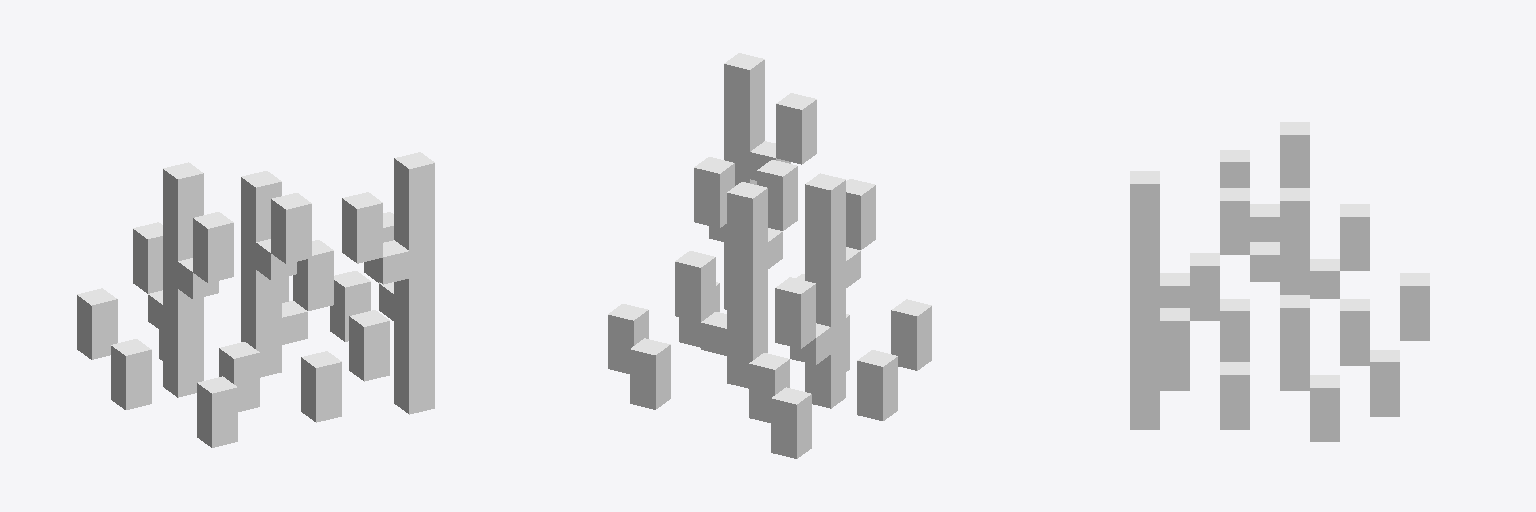
File: grass-forest5.obj
The picture shows the model from 3 angles: view 1: azimuth 30°, elevation 25°; view 2: azimuth 150°, elevation 25°; view 3: azimuth 270°, elevation 25°; orthographic projection.
Parts seen in each view (by area): view 1: object 1; view 2: object 1; view 3: object 1.
Boxes of the visible parts, x1=… form: object 1: x1=77, y1=152, x2=434, y2=447; object 1: x1=608, y1=53, x2=931, y2=458; object 1: x1=1130, y1=122, x2=1429, y2=441.
Size of the model in its own units: 1 by 0.9 by 1.